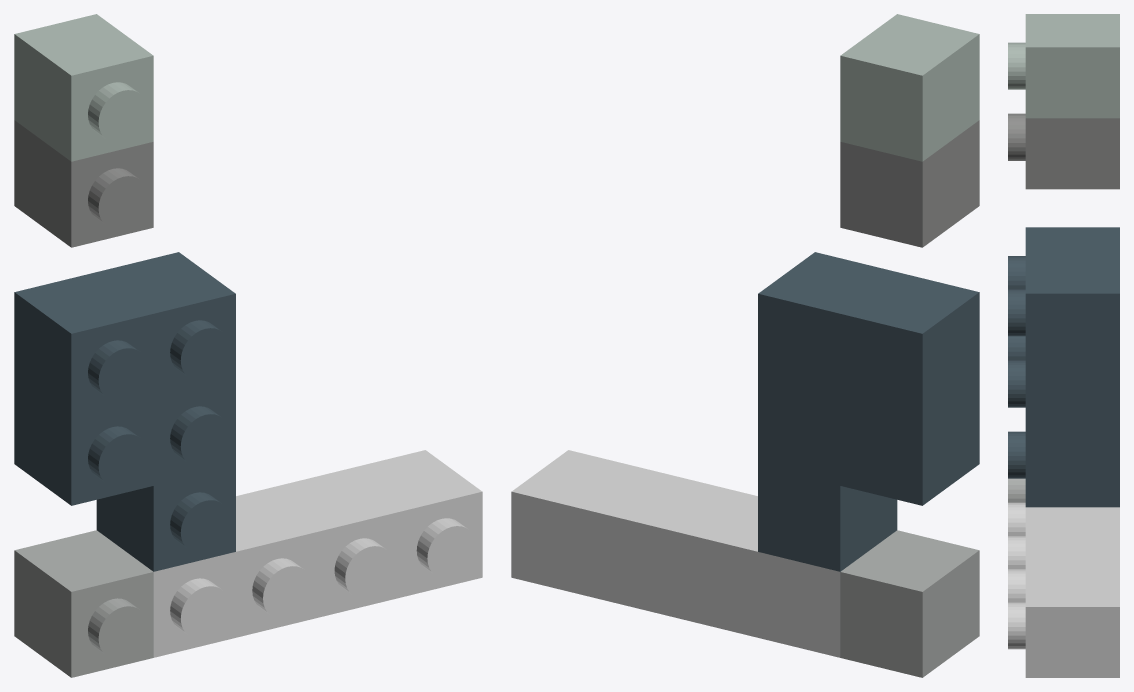
File: current.glb
The picture shows the model from 3 angles, left to right: view 1: azimuth 30°, elevation 25°; view 2: azimuth 150°, elevation 25°; view 3: azimuth 270°, elevation 25°; orthographic projection. The views are drawn at different scales.
Visible parts, largest first — view 1: world; view 2: world; view 3: world.
Boxes of the visible parts, x1,y1,x2,y2 form: world: [14, 14, 482, 677]; world: [511, 14, 979, 677]; world: [1008, 14, 1119, 677].
Bounding box in the file's own units: 40 × 56 × 11.4.
